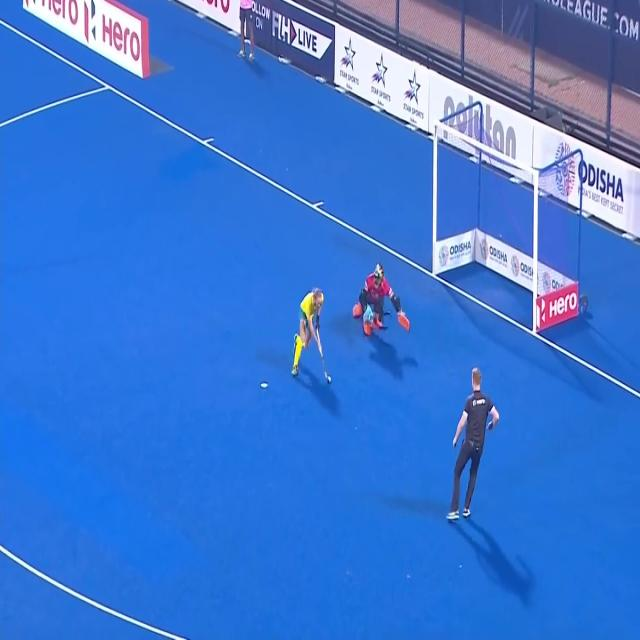ball: (326, 373, 334, 386)
